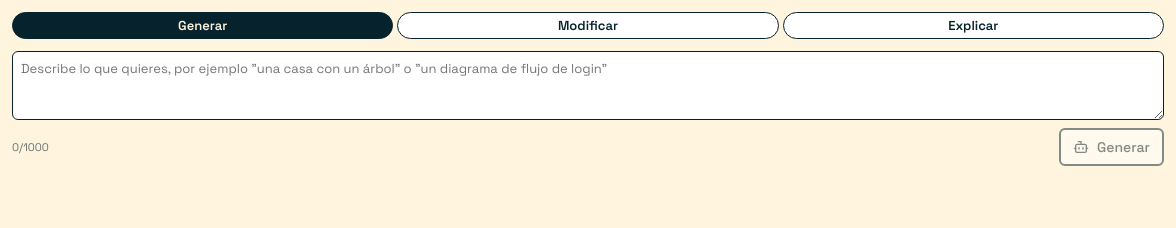
it: AssistantPanel › shows a friendly message for rate limits and keeps the editor untouched
Replace the text in the text box named "Instrucción para el asistente" with "una casa" at (588, 86), box [12,51,1164,120]
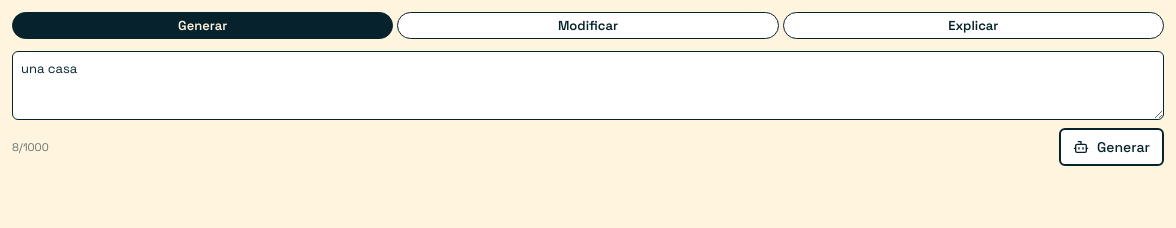
Click the button "Generar" at (1112, 147), box [1059,128,1164,166]
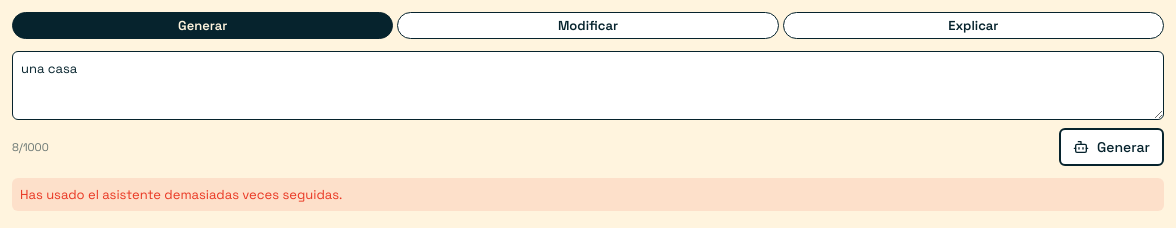
expect the message shows "demasiadas veces": met, box [20,186,342,203]
